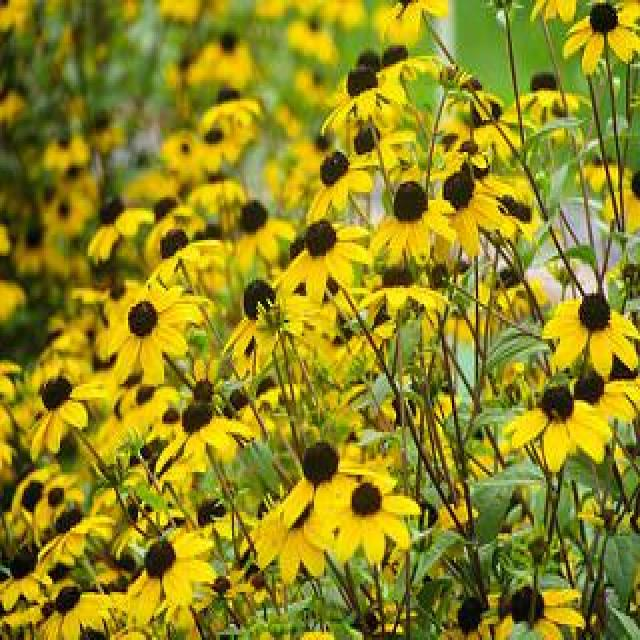sunflower: (276, 443, 396, 529), (101, 279, 203, 380), (218, 276, 330, 361), (505, 383, 611, 471), (275, 220, 374, 307), (546, 286, 640, 374), (125, 528, 214, 615), (327, 482, 417, 562), (433, 175, 516, 261), (22, 375, 104, 462), (373, 178, 451, 266), (252, 495, 331, 579), (155, 402, 252, 470), (564, 0, 640, 80), (363, 258, 451, 322), (320, 68, 400, 137), (302, 150, 378, 222), (495, 586, 591, 640), (145, 225, 235, 279), (33, 581, 115, 640), (89, 195, 155, 263), (36, 511, 115, 567), (0, 543, 64, 608), (233, 198, 295, 262), (512, 72, 591, 120), (186, 31, 253, 87), (586, 163, 640, 228), (337, 52, 414, 97), (465, 95, 520, 158), (570, 375, 640, 423), (142, 197, 192, 256), (483, 267, 544, 314), (200, 81, 263, 126), (14, 225, 65, 278), (195, 498, 258, 540), (440, 598, 499, 640), (197, 122, 244, 170), (189, 170, 243, 210), (382, 44, 439, 80), (40, 134, 90, 168), (253, 376, 306, 408), (44, 195, 82, 235), (203, 569, 256, 596), (87, 113, 121, 150), (162, 132, 195, 170)
